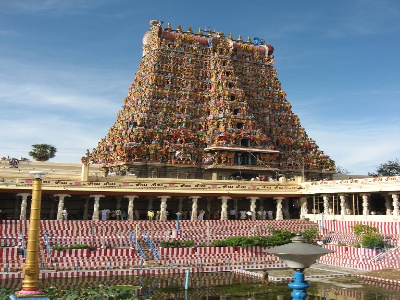gopura: (106, 25, 331, 165)
